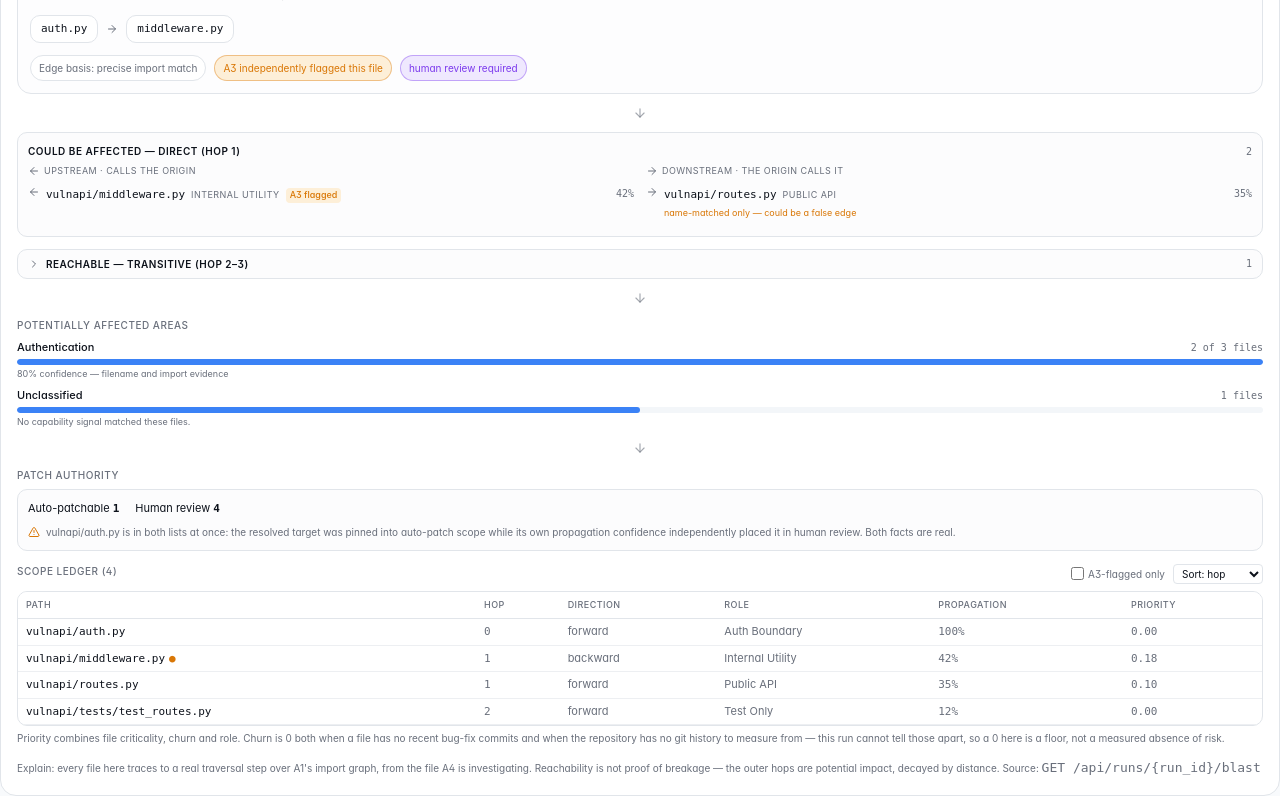
BlastRadiusPanel › filters the ledger to A3-flagged files only
The image size is (1280, 796).
(page scrolled)
expect the text "Scope ledger (4)" is shown: met, box top-left (17, 563), bottom-right (117, 579)
What coordinates should you click on to do the following:
click the checkbox labelled "A3-flagged only"
I would click on:
 (1078, 574)
Its box is top-left (1071, 567), bottom-right (1084, 580).
(page scrolled)
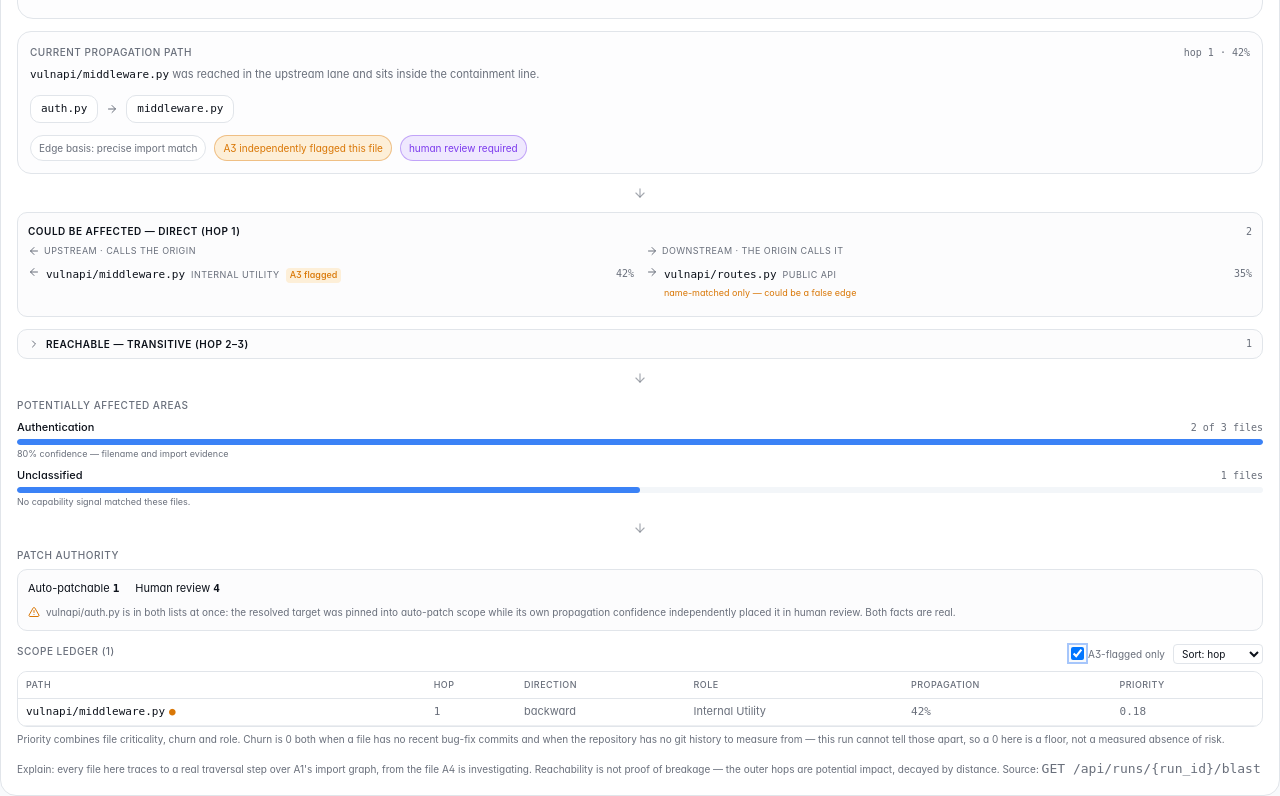
expect the text "Scope ledger (1)" is shown: met, box top-left (17, 643), bottom-right (115, 659)
